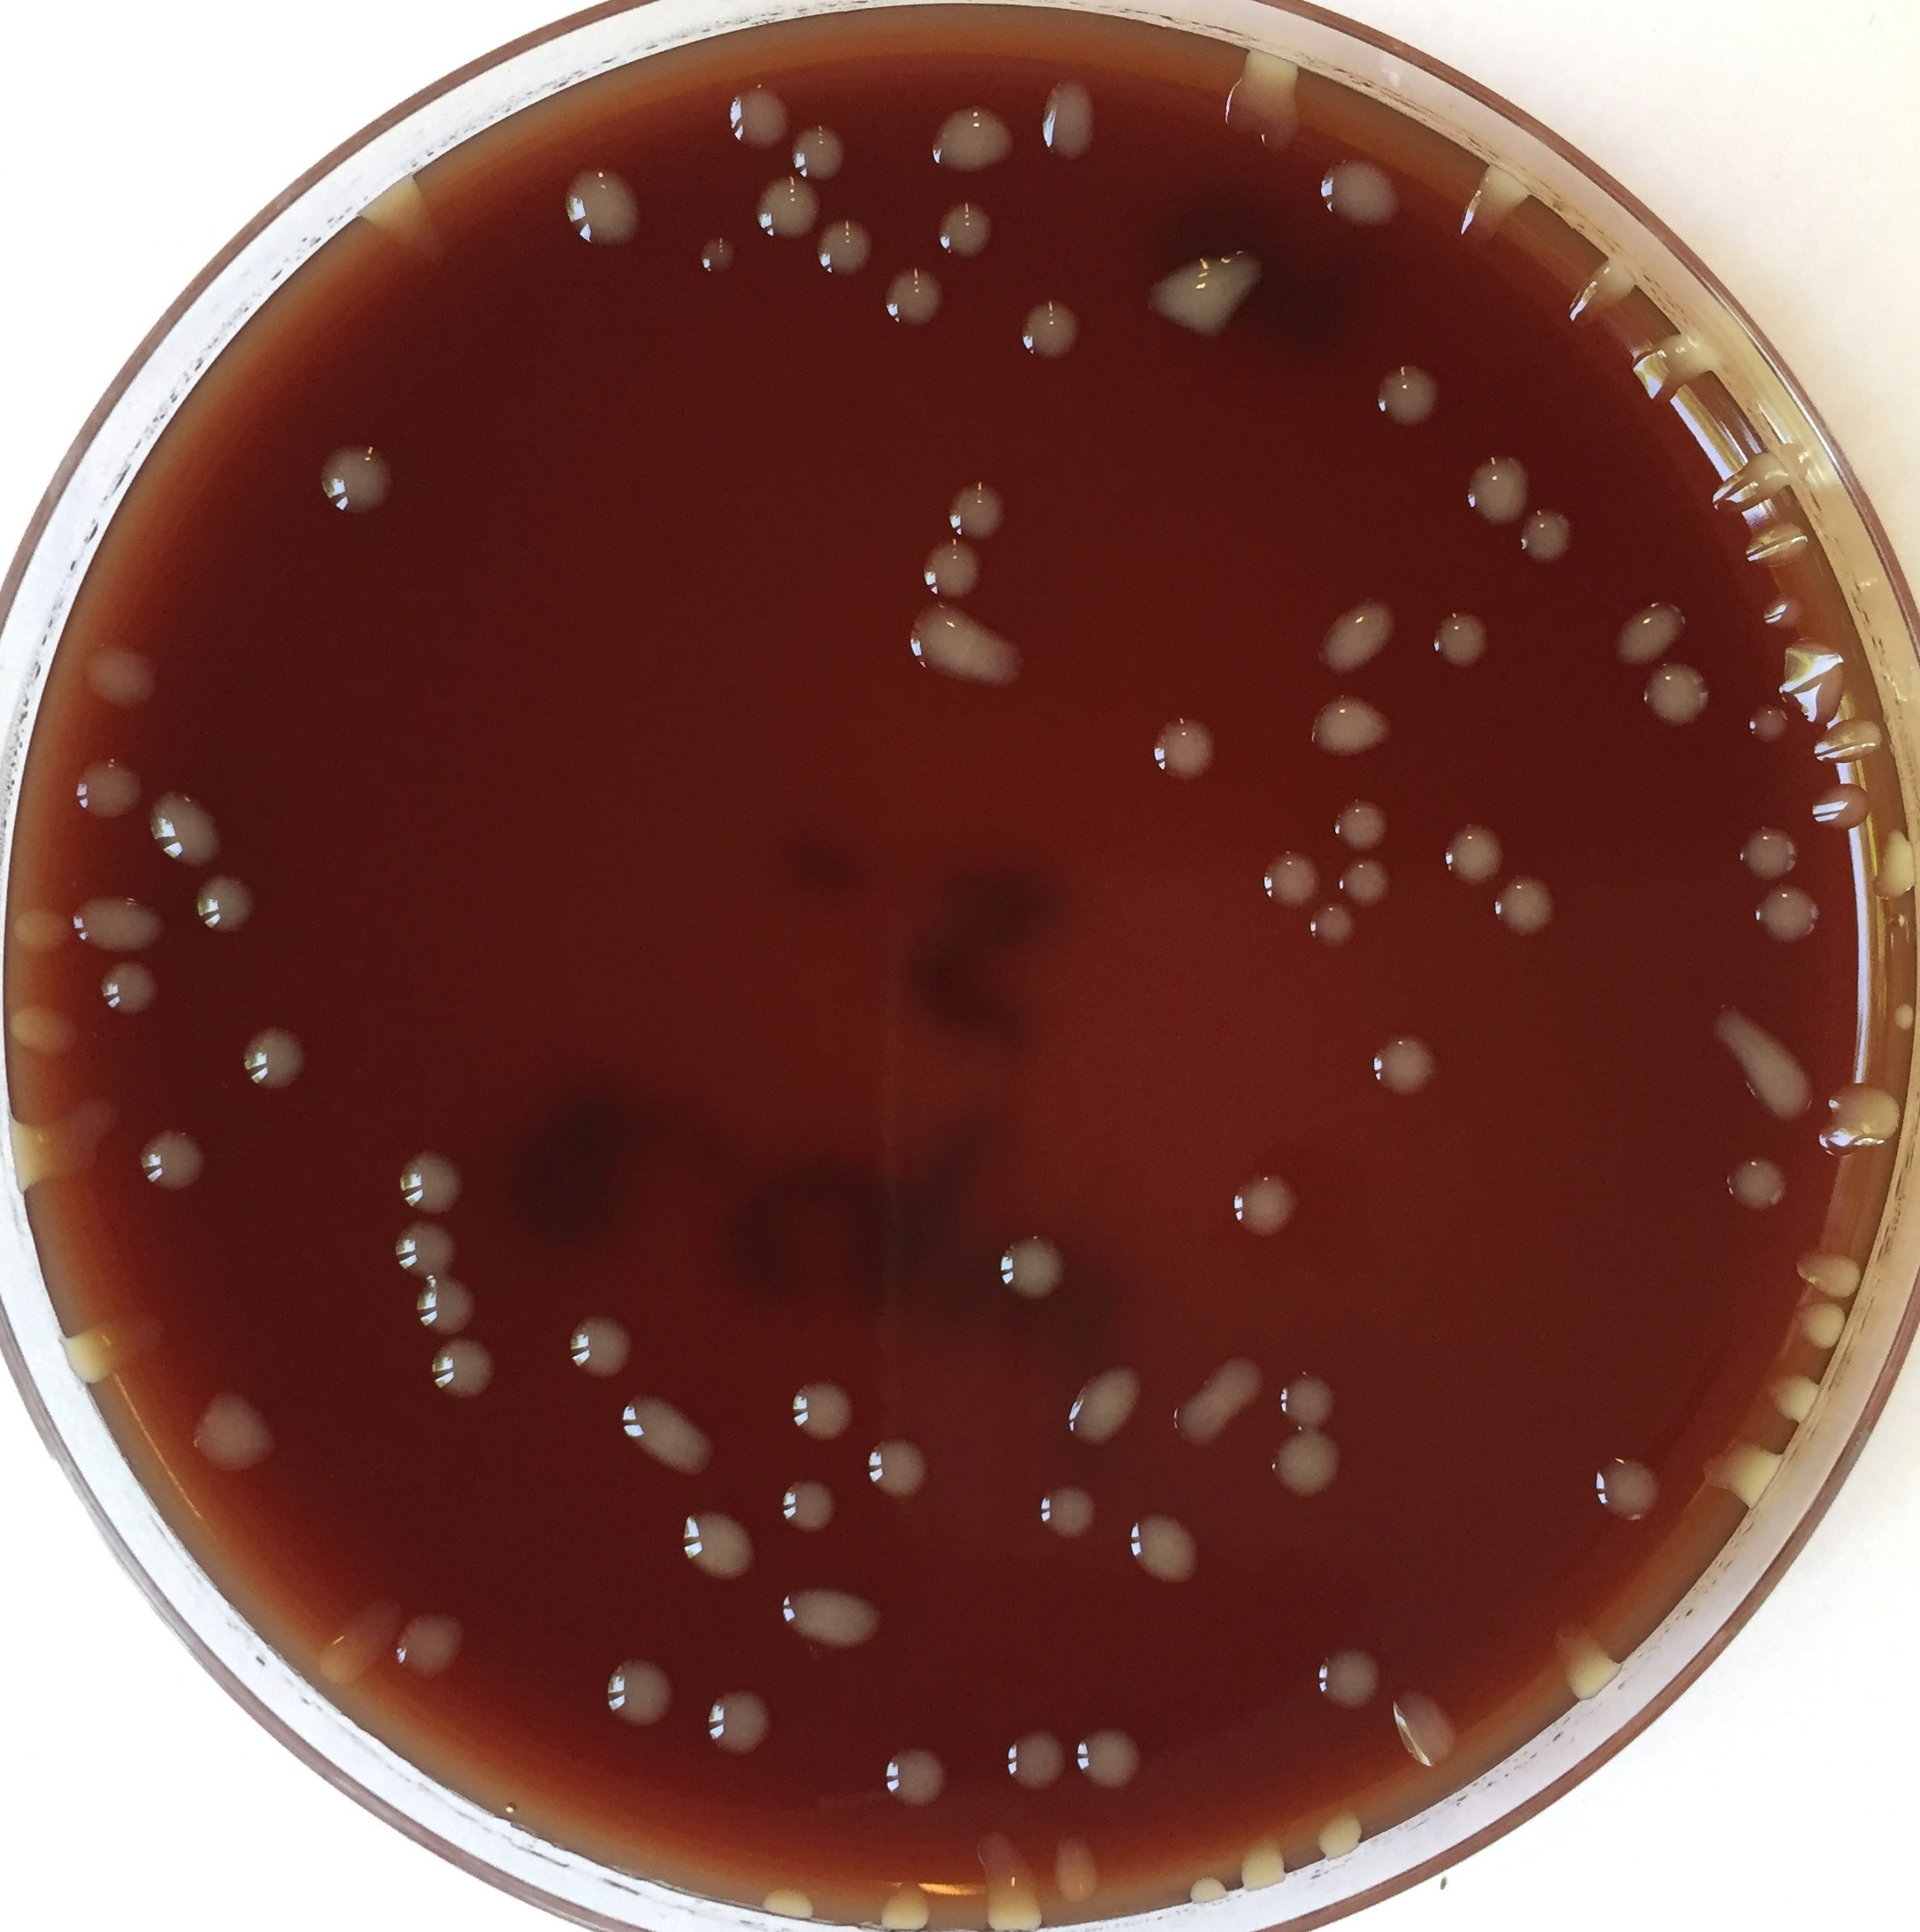sp19: (1693, 1004, 1818, 1127), (1145, 248, 1275, 346), (904, 596, 1032, 694), (348, 174, 457, 272), (617, 1391, 728, 1484), (1060, 1355, 1159, 1459), (1220, 51, 1315, 153), (772, 1577, 888, 1660), (1180, 1343, 1264, 1450), (1630, 323, 1723, 415), (1315, 155, 1414, 241), (181, 1399, 287, 1478), (1451, 165, 1537, 260), (559, 167, 649, 255), (53, 1306, 141, 1396), (1542, 1616, 1628, 1707), (1299, 694, 1403, 770), (1776, 629, 1857, 726), (1298, 608, 1408, 679), (313, 436, 401, 524), (673, 1507, 763, 1593), (1711, 443, 1797, 533), (142, 786, 234, 870), (1124, 1507, 1208, 1594), (16, 1099, 86, 1204), (879, 1740, 979, 1812), (76, 643, 171, 719), (1816, 1074, 1899, 1160), (974, 1814, 1039, 1923), (380, 1610, 476, 1682), (65, 893, 171, 958), (1387, 1682, 1461, 1774), (603, 1652, 682, 1735), (1034, 76, 1109, 162), (921, 105, 1020, 171), (993, 1229, 1073, 1310), (698, 1682, 779, 1761), (1561, 255, 1639, 338), (1143, 717, 1227, 793), (91, 955, 178, 1028), (1702, 1438, 1785, 1514), (306, 1598, 378, 1684), (1588, 1454, 1669, 1529), (1614, 594, 1697, 668), (753, 174, 830, 251), (1276, 1426, 1347, 1505), (863, 1433, 935, 1508), (1225, 1173, 1303, 1243), (1493, 874, 1570, 944), (1310, 1640, 1382, 1714), (1073, 1719, 1146, 1791), (239, 1027, 313, 1099), (139, 1123, 213, 1195), (1748, 879, 1823, 949), (724, 83, 793, 160), (1363, 1034, 1442, 1100), (1642, 661, 1718, 730), (70, 759, 149, 824), (408, 1273, 491, 1334), (786, 1378, 858, 1449), (190, 870, 260, 942), (1465, 448, 1531, 524), (392, 1150, 471, 1213), (1373, 362, 1444, 432), (427, 1329, 494, 1403), (1790, 1239, 1865, 1304), (1011, 301, 1090, 362), (1744, 513, 1815, 582), (389, 1213, 461, 1280), (939, 483, 1015, 547), (877, 267, 953, 330), (1043, 1832, 1109, 1902), (999, 1730, 1074, 1791), (1240, 1823, 1301, 1899), (7, 1006, 84, 1065), (1331, 791, 1398, 860), (564, 1313, 635, 1378), (1720, 1151, 1793, 1213), (930, 200, 997, 265), (921, 541, 986, 606), (786, 120, 853, 183), (1440, 823, 1509, 884), (1257, 853, 1324, 914), (870, 1876, 942, 1932), (1760, 1364, 1832, 1420), (775, 1475, 840, 1536), (1310, 1805, 1375, 1867), (1516, 505, 1581, 566), (2, 907, 77, 960), (1433, 606, 1491, 675), (809, 216, 877, 274), (1278, 1366, 1340, 1429), (1809, 781, 1878, 837), (1809, 714, 1881, 766), (1788, 1296, 1850, 1355), (1032, 1482, 1095, 1540), (1735, 823, 1800, 879), (1336, 856, 1403, 911), (1876, 826, 1920, 907), (753, 1883, 819, 1932), (1303, 898, 1357, 953), (1764, 584, 1816, 638), (1744, 698, 1793, 751), (1178, 1874, 1229, 1914), (696, 237, 740, 276), (1888, 997, 1920, 1039)
